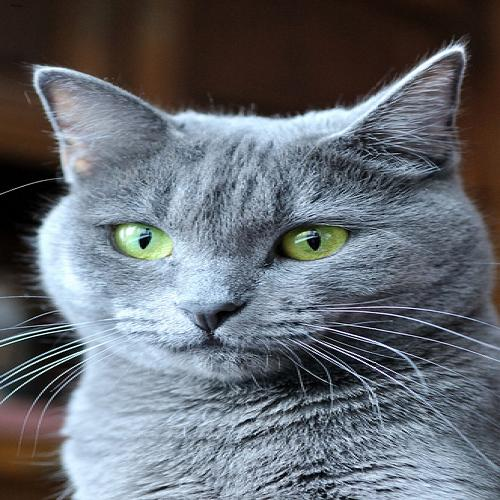rblue: (4, 45, 500, 410)
